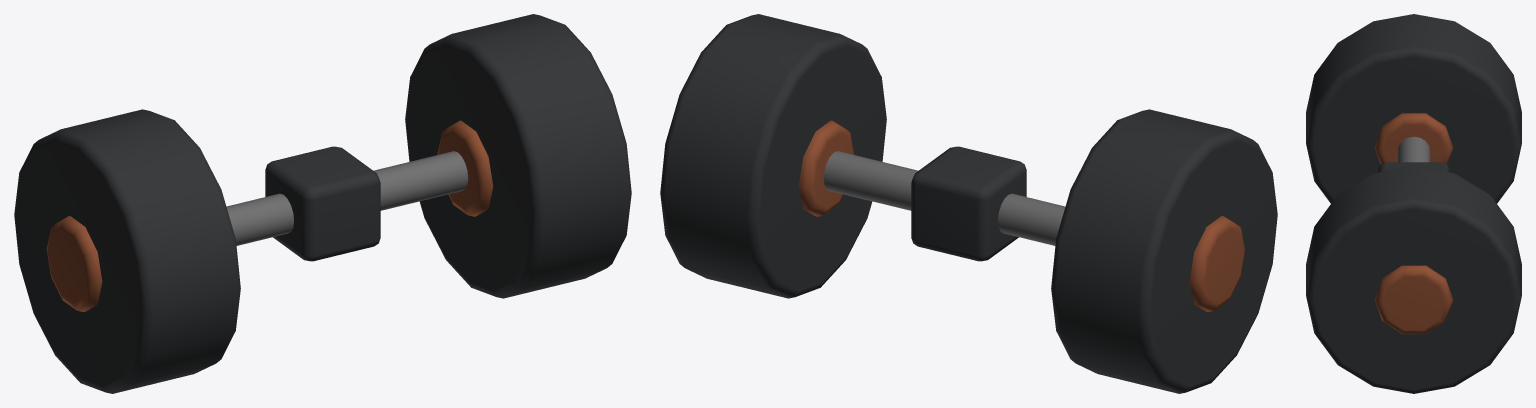
File: wheel-axle.glb
3 renders of one model, left to right at view 1: azimuth 30°, elevation 25°; view 2: azimuth 150°, elevation 25°; view 3: azimuth 270°, elevation 25°, orthographic. The views are drawn at different scales.
Visible parts, largest first — view 1: wheel-axle; view 2: wheel-axle; view 3: wheel-axle.
Part boxes in pixels (x1=…): wheel-axle: x1=14, y1=14, x2=631, y2=393; wheel-axle: x1=660, y1=14, x2=1277, y2=393; wheel-axle: x1=1306, y1=14, x2=1521, y2=393.
Size of the model in its own units: 1.44 by 0.66 by 0.66.
